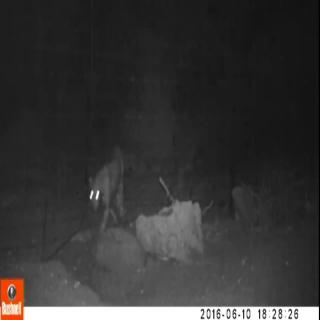Leopard: (76, 144, 139, 226)
